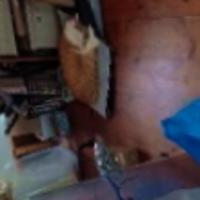asleep: (52, 12, 104, 105)
